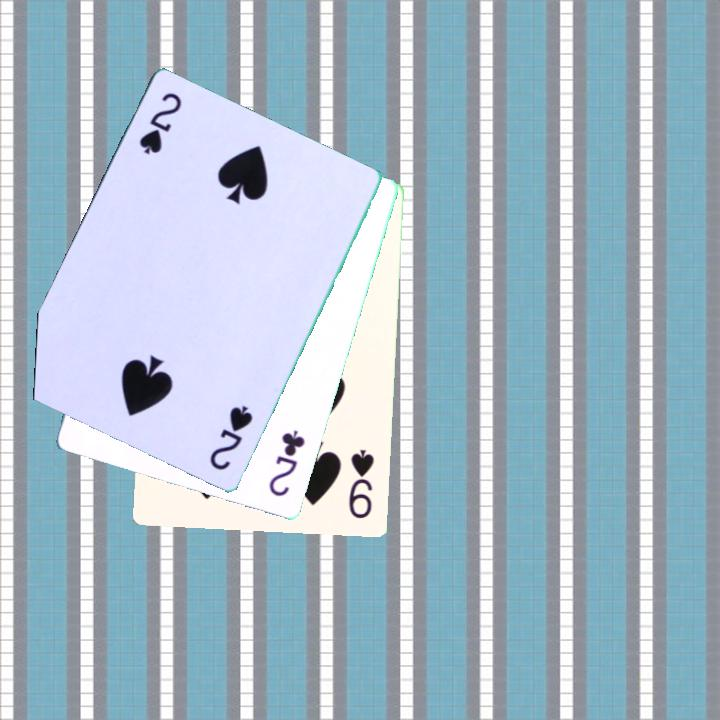2c: (265, 426, 309, 500)
2s: (206, 402, 256, 474), (136, 89, 185, 158)
9s: (345, 446, 378, 522)
